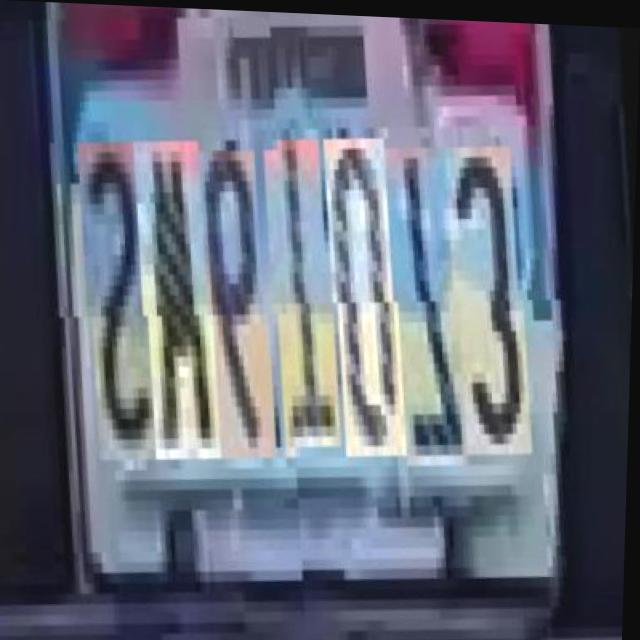0: (331, 138, 421, 461)
3: (452, 147, 546, 460)
6: (206, 140, 291, 452)
7: (391, 149, 482, 470)
s: (85, 131, 175, 454)
t: (271, 139, 356, 452)
w: (140, 130, 235, 453)
